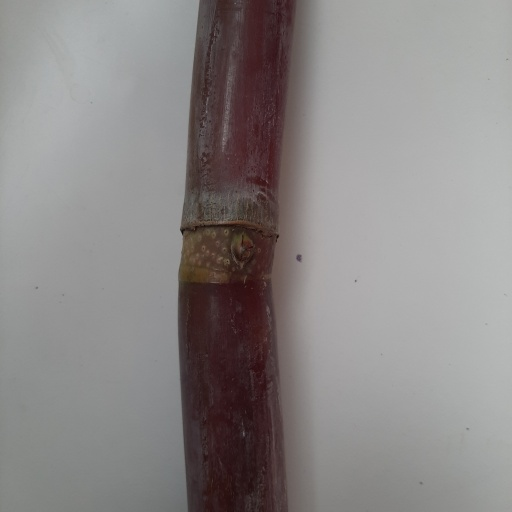Bud: (231, 231, 256, 268)
